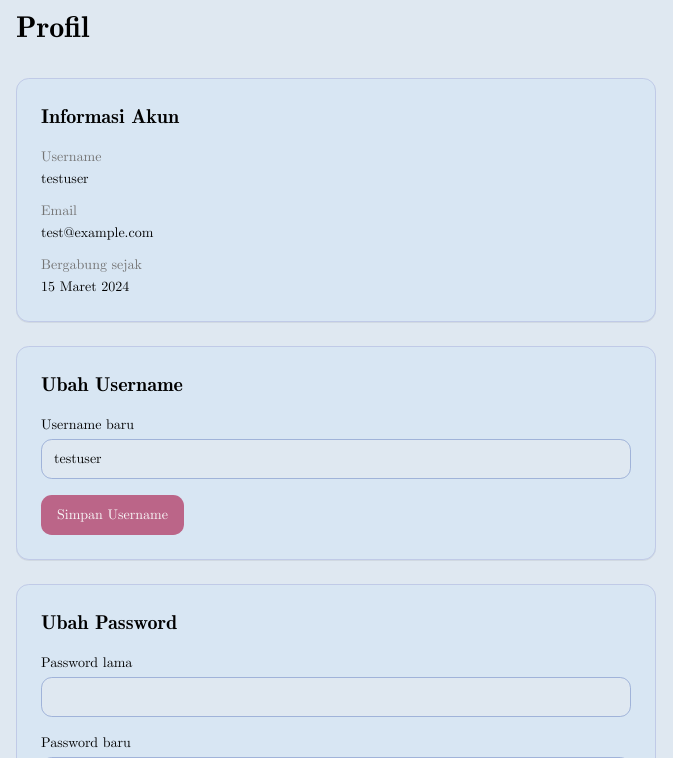
Scenario: ProfilePage › ubah username › menampilkan error generik ketika API gagal tanpa pesan spesifik
The width and height of the screenshot is (673, 758).
Replace the text in the field labelled "Username baru" with "someuser" at point(336, 459), box [41,439,631,479]
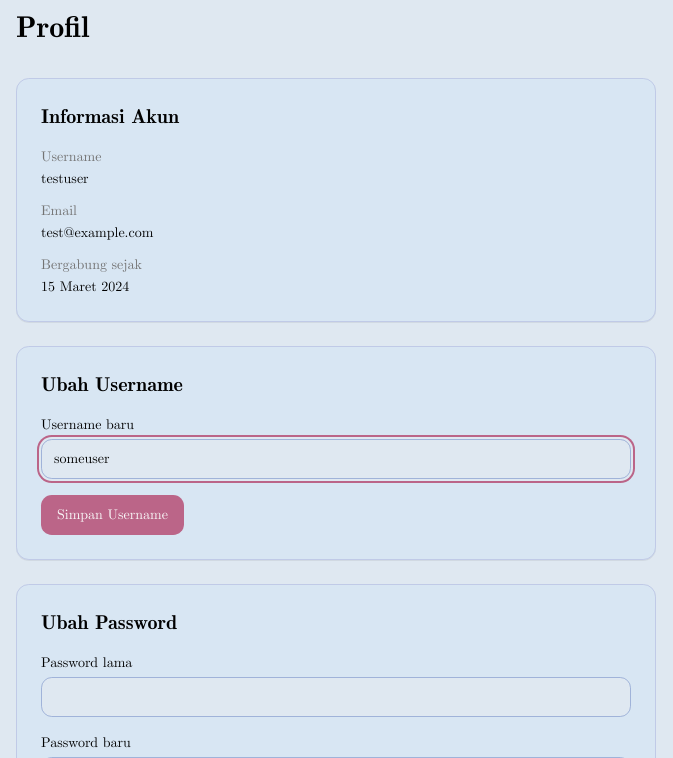
Click the button "Simpan Username" at point(112, 515), box [41,495,184,535]
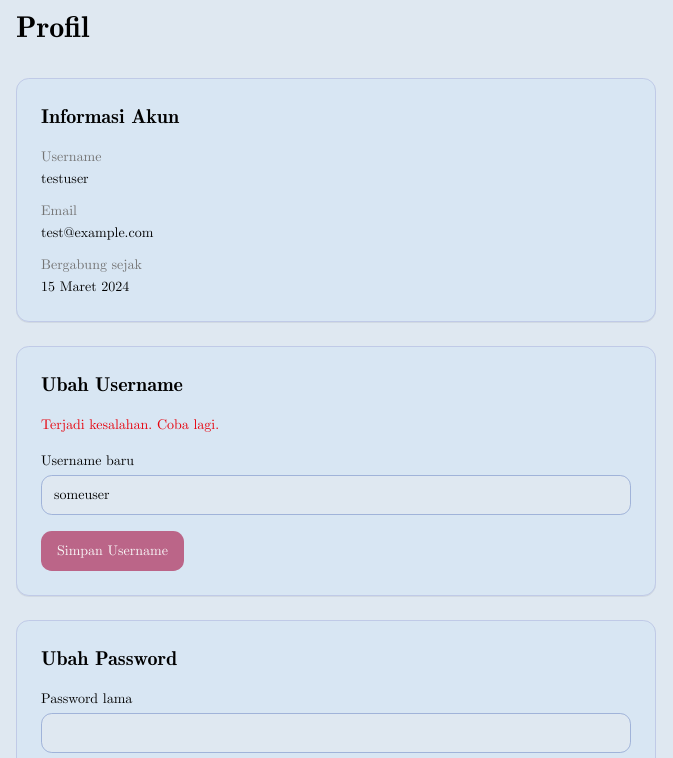
Expected: the text "Terjadi kesalahan. Coba lagi." is shown, [41,418,219,432]
